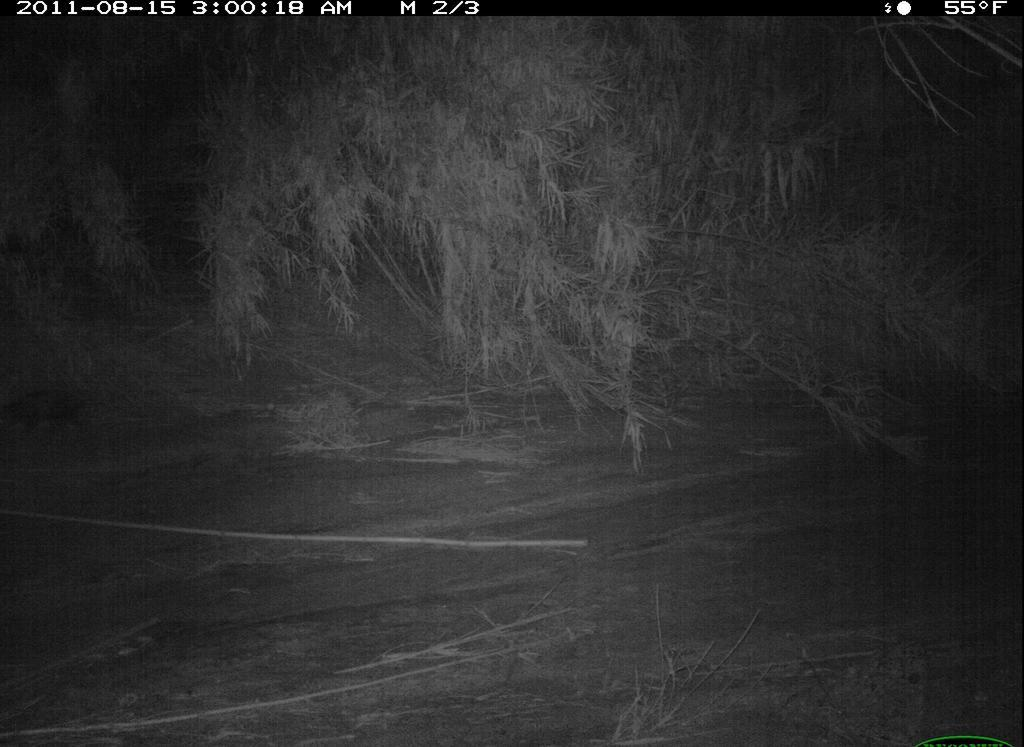opossum: (1, 381, 120, 449)
